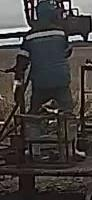gloves: (13, 74, 25, 103)
vest: (25, 24, 70, 89)
